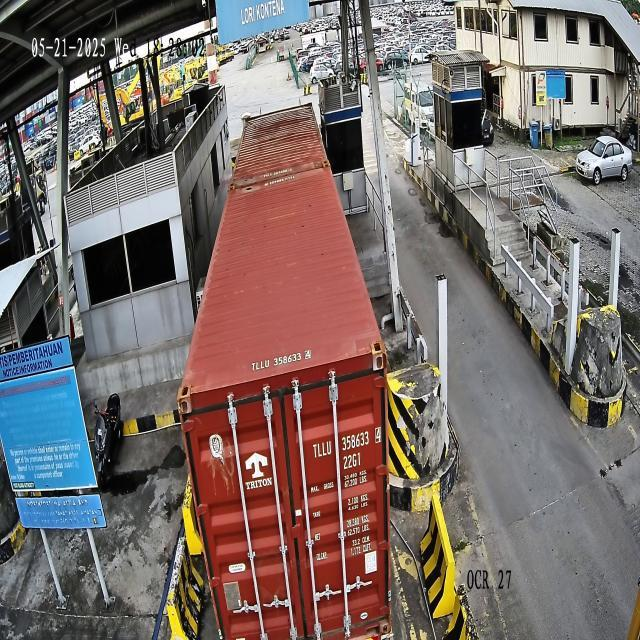ISO: (344, 450, 362, 470)
container_number: (313, 426, 382, 460)
